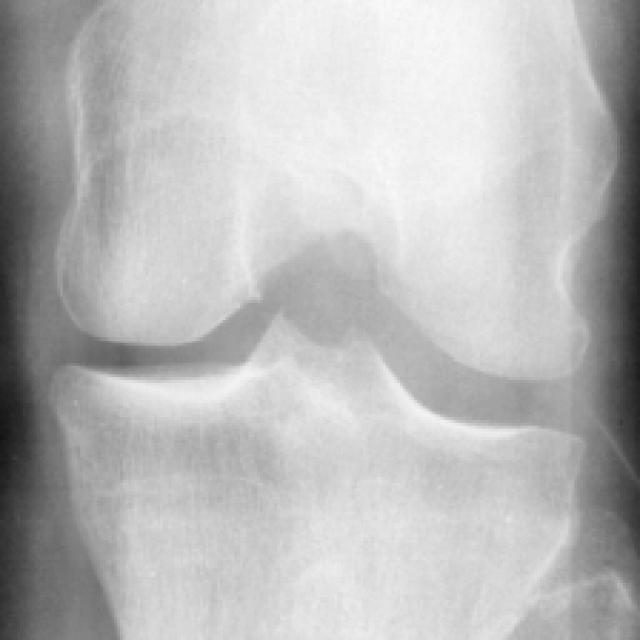femur: (54, 1, 618, 377)
tibia: (49, 311, 588, 640)
